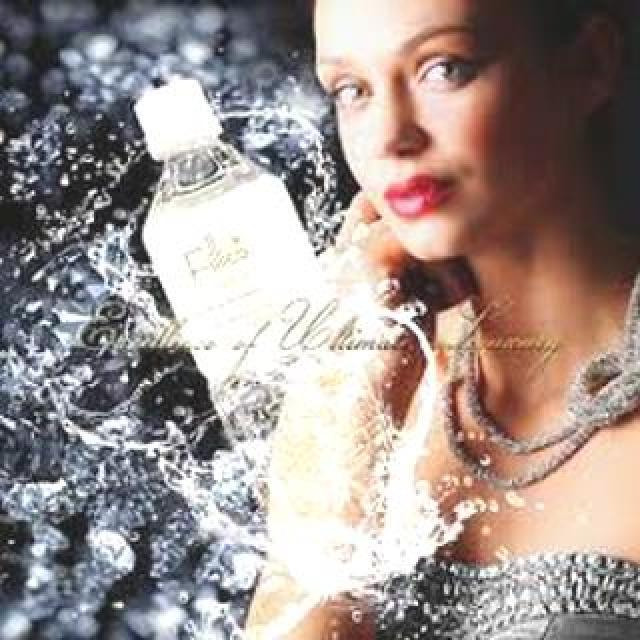Pet_Bottle: (117, 74, 423, 596)
